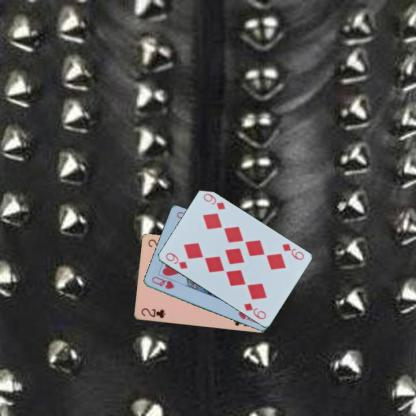2c: (139, 306, 166, 320)
9d: (162, 250, 188, 271), (279, 241, 305, 262)
Qh: (149, 274, 176, 290)
